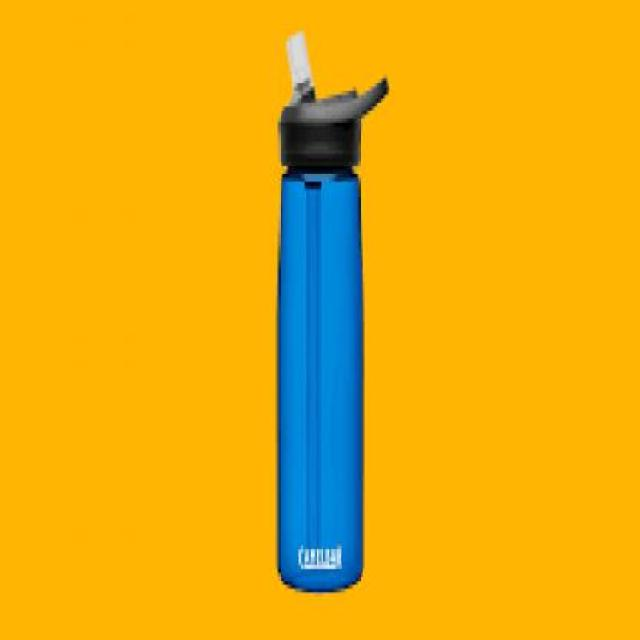Drinking: (255, 20, 393, 612)
